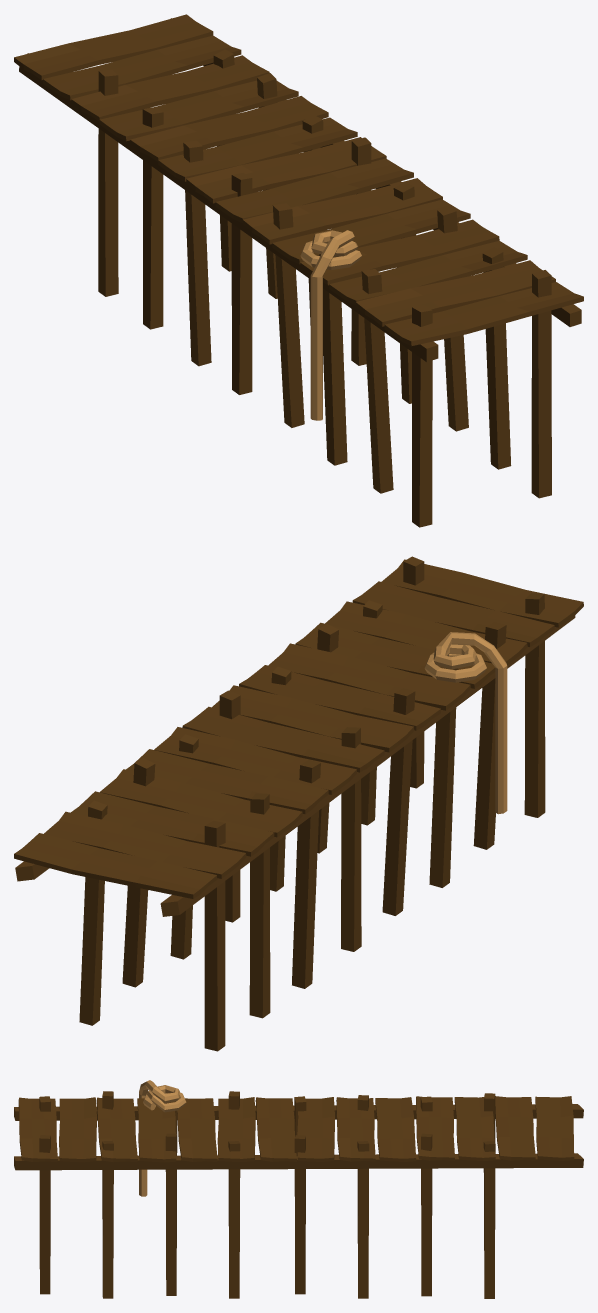
Rendered from Dock01.fbx.
The picture shows the model from 3 angles, top to bottom: view 1: azimuth 30°, elevation 25°; view 2: azimuth 150°, elevation 25°; view 3: azimuth 270°, elevation 25°; orthographic projection. The views are drawn at different scales.
Visible parts, largest first — view 1: Dock01; view 2: Dock01; view 3: Dock01.
Part boxes in pixels (bbox=[...]): Dock01: bbox=[14, 14, 583, 527]; Dock01: bbox=[14, 556, 583, 1051]; Dock01: bbox=[14, 1080, 583, 1298].
Size of the model in its own units: 474 by 581 by 1775.
